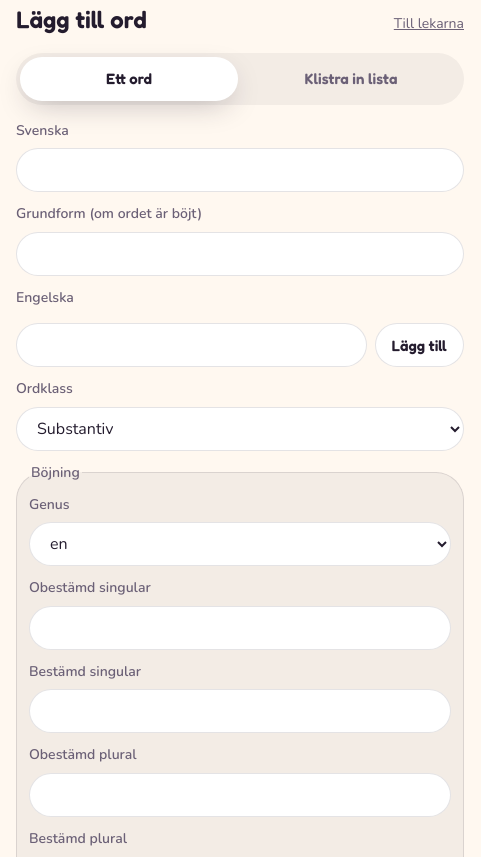
Test: Add › blocks a save with no english and says so on the field
The width and height of the screenshot is (481, 857).
Type "dammsugare" into the field labelled "Svenska".
click(240, 170); type("dammsugare")  # box x1=16 y1=148 x2=464 y2=192
(page scrolled)
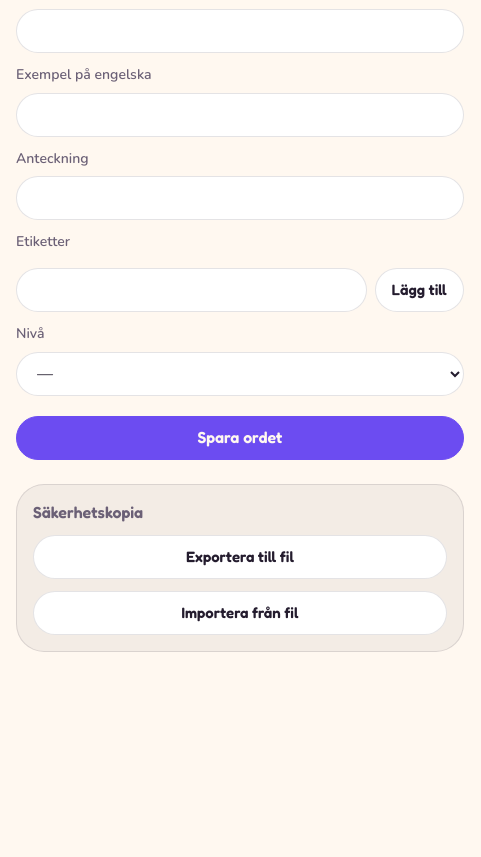
Click the button "Spara ordet".
click(240, 438)  # box x1=16 y1=416 x2=464 y2=460
(page scrolled)
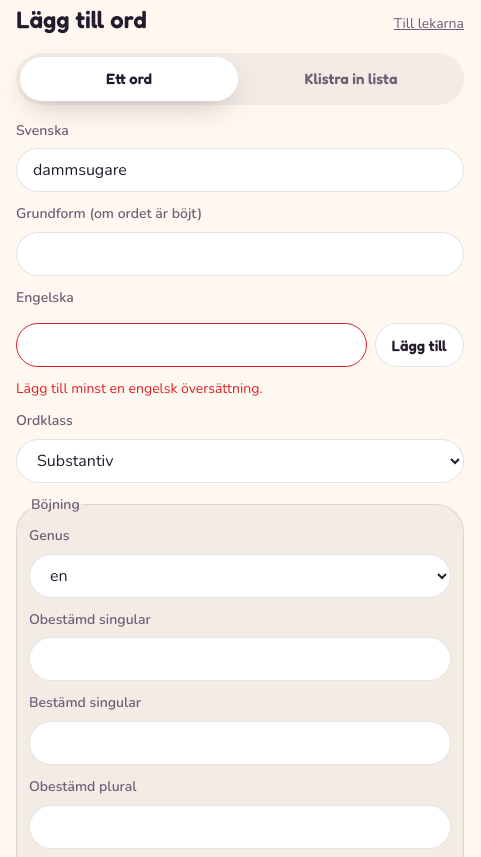
Expected: the message shows "minst en engelsk översättning", x1=16 y1=379 x2=262 y2=398
